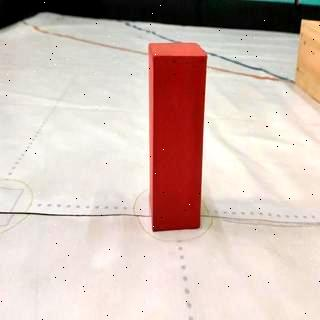redbox: (147, 41, 209, 230)
